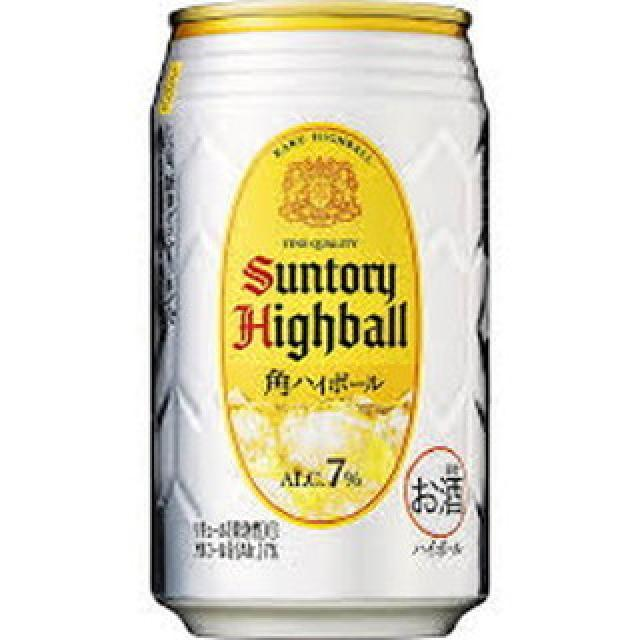recyclable: (150, 3, 492, 638)
